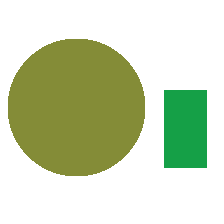circle: (8, 39, 144, 175)
rectangle: (164, 90, 206, 167)
